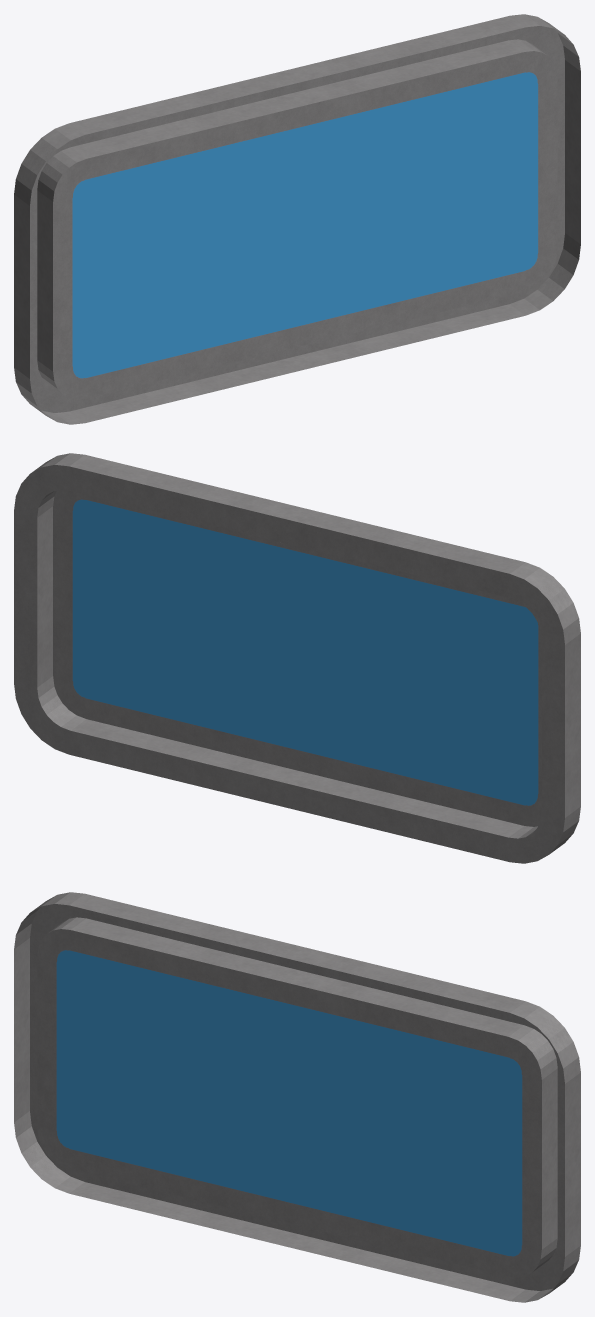
The model's file is Window_Modular.fbx.
3 views of the same model, one above another, from view 1: azimuth 30°, elevation 25°; view 2: azimuth 150°, elevation 25°; view 3: azimuth 330°, elevation 25° (orthographic).
Visible parts, largest first — view 1: Window; view 2: Window; view 3: Window.
Part boxes in pixels (x1,y1,x2,y2): Window: (14,14,580,424); Window: (14,453,580,863); Window: (14,892,580,1302).
Size of the model in its own units: 200 by 10 by 100.
Materials: 1 (1 with a texture image).
